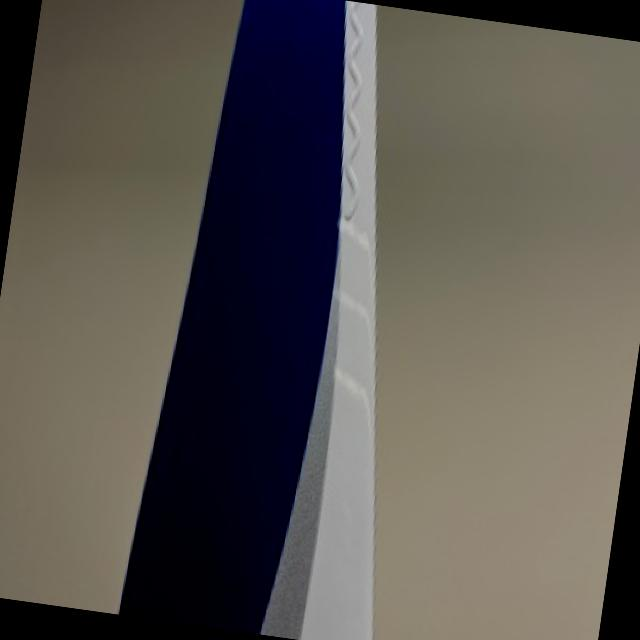healthy: (117, 0, 374, 640)
